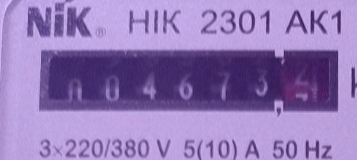0: (63, 75, 83, 105), (101, 73, 119, 104)
2: (290, 57, 310, 89)
3: (251, 66, 268, 100)
4: (139, 69, 157, 104)
6: (173, 69, 194, 103)
7: (211, 69, 233, 106)
screen: (33, 46, 342, 122)
